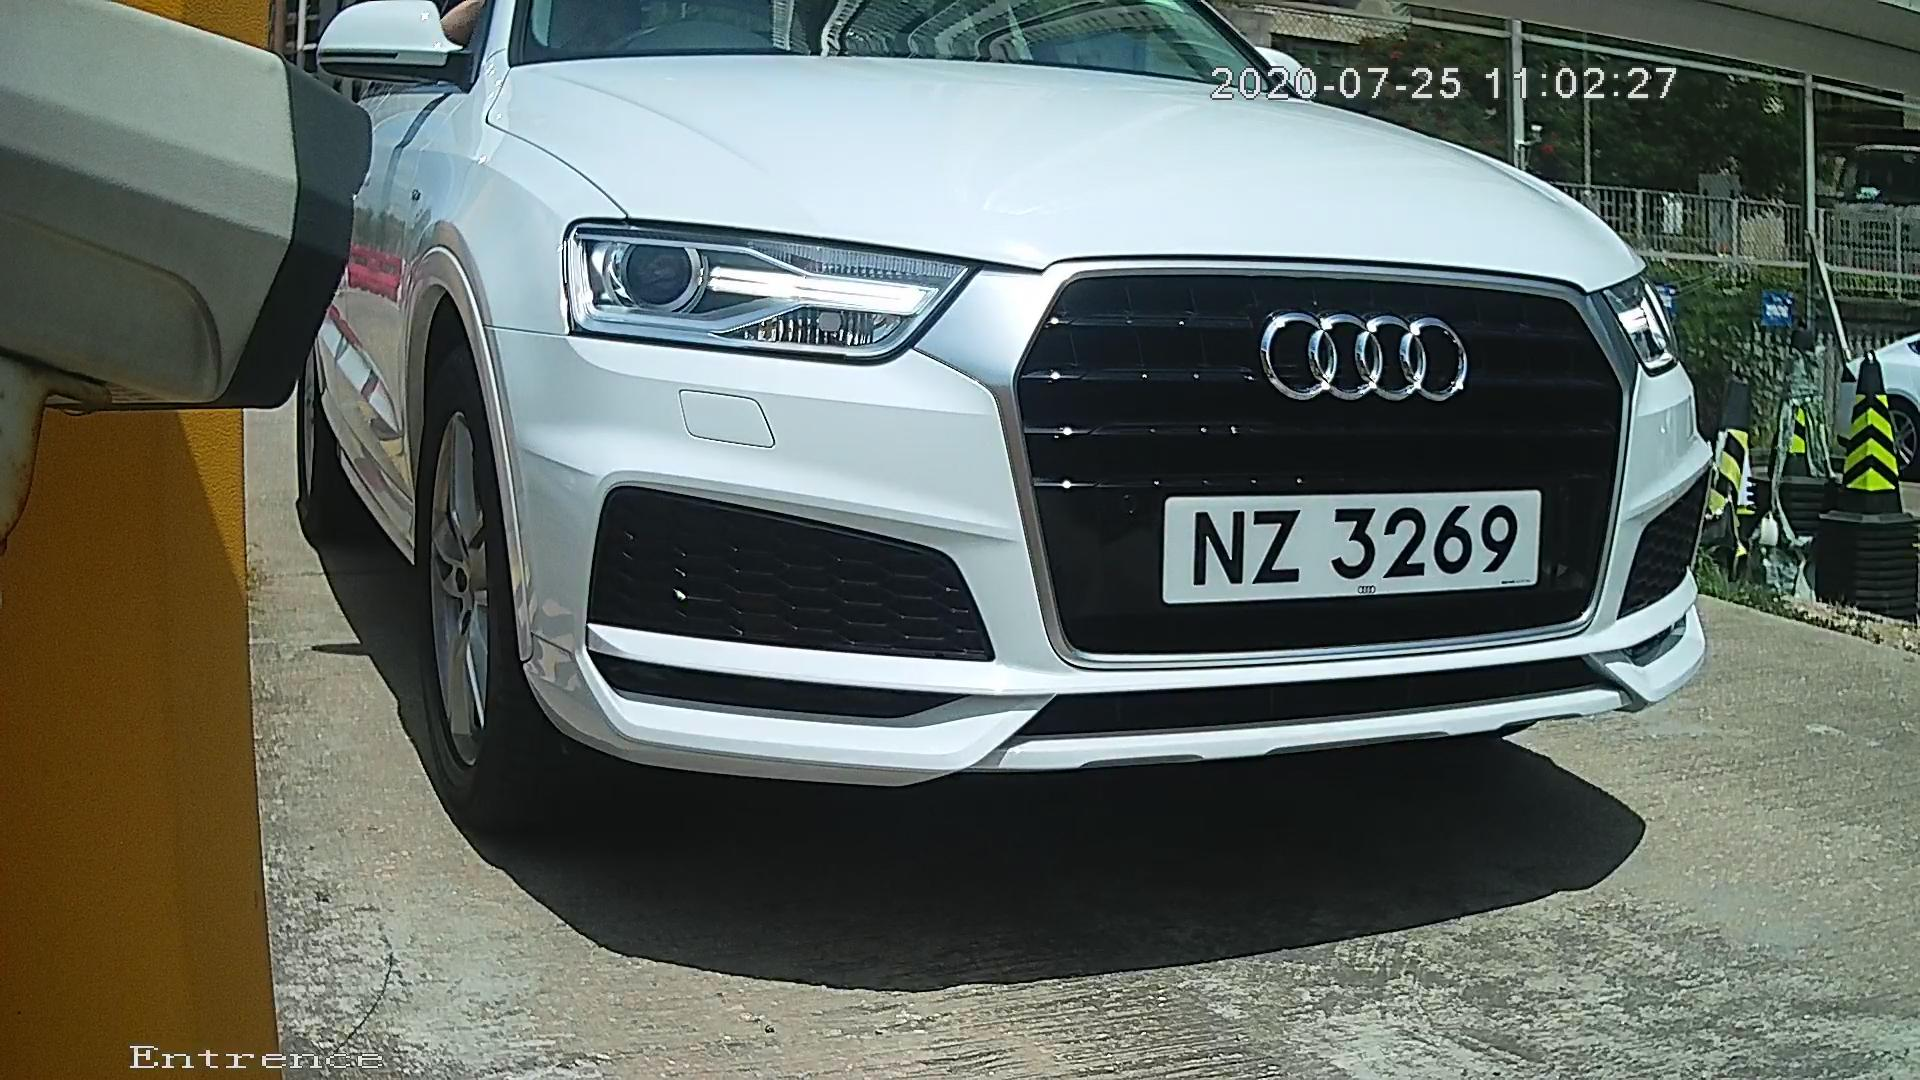Car: (155, 1, 1801, 897)
License Plate: (1132, 468, 1569, 627)
